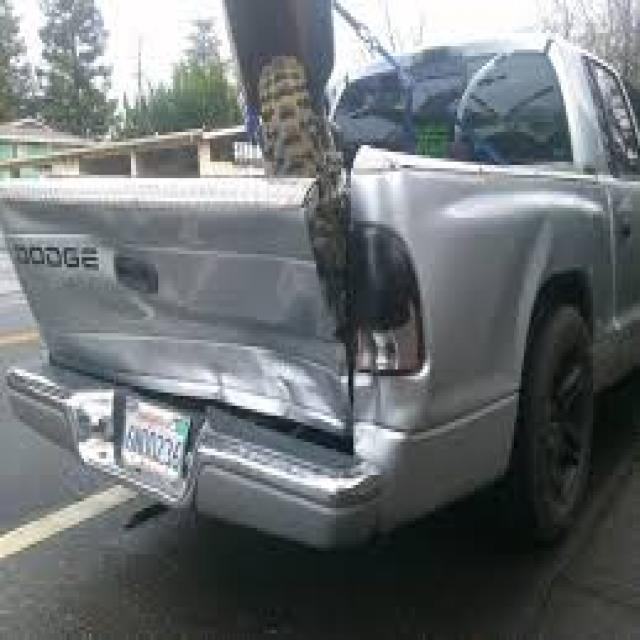moderate: (16, 129, 484, 422)
